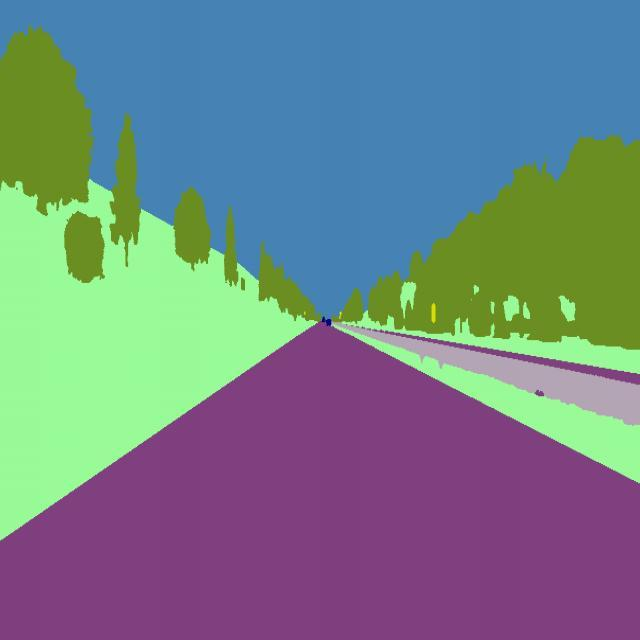safe: (326, 316, 334, 328)
